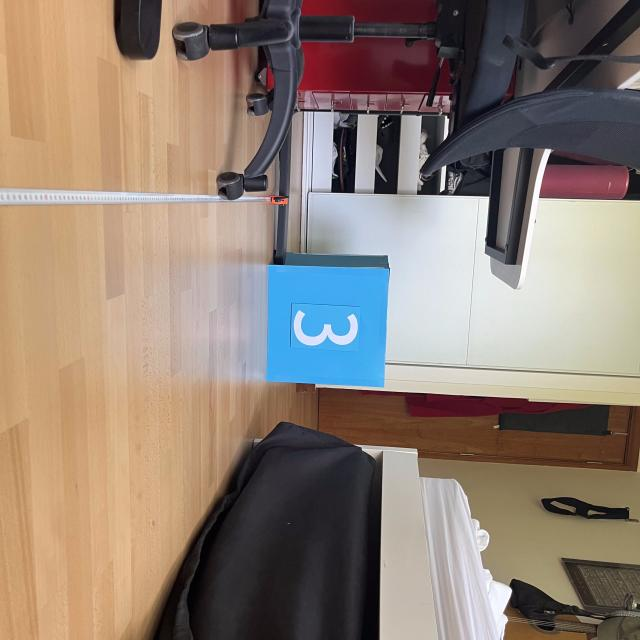box: (262, 250, 392, 390)
